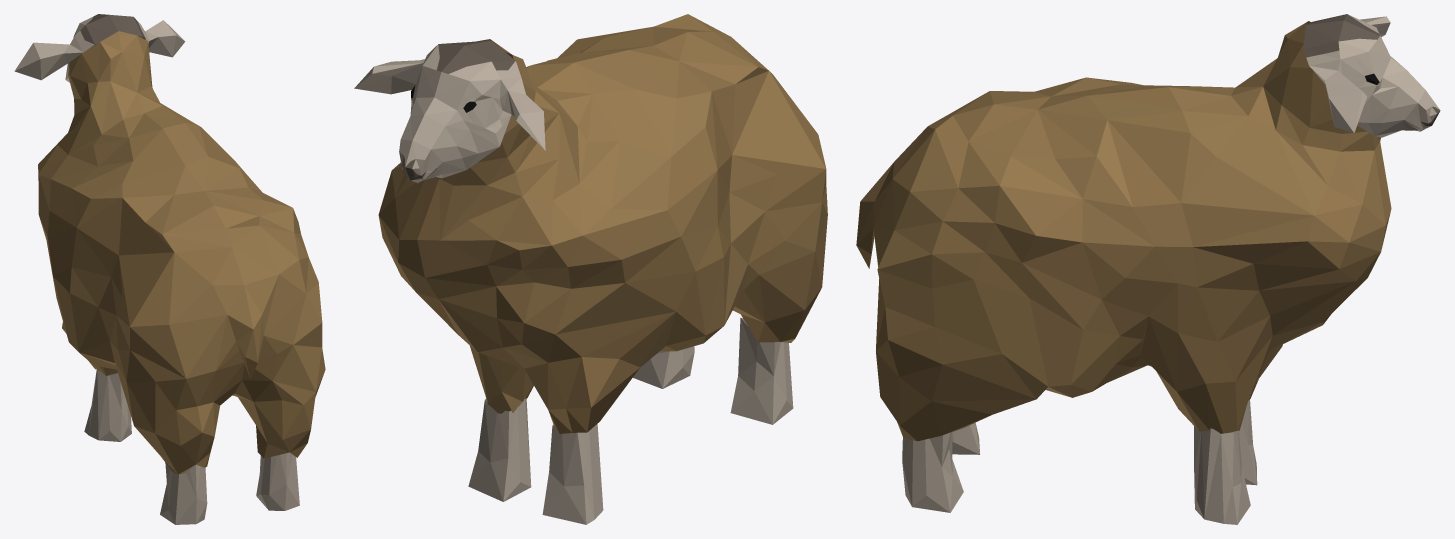
Rendered from sheep.obj.
The picture shows the model from 3 angles, left to right: view 1: azimuth 30°, elevation 25°; view 2: azimuth 150°, elevation 25°; view 3: azimuth 270°, elevation 25°; orthographic projection. The views are drawn at different scales.
Visible parts, largest first — view 1: sheep_sheep_wool, sheep.002_sheep.002_skin, sheep.003_sheep.003_skin, sheep.004_sheep.004_skin, sheep.005_sheep.005_skin, sheep.002_sheep.002_mark; view 2: sheep_sheep_wool, sheep.002_sheep.002_skin, sheep.003_sheep.003_skin, sheep.004_sheep.004_skin, sheep.002_sheep.002_mark, sheep.005_sheep.005_skin; view 3: sheep_sheep_wool, sheep.002_sheep.002_skin, sheep.003_sheep.003_skin, sheep.005_sheep.005_skin, sheep.002_sheep.002_mark, sheep.004_sheep.004_skin.
Part boxes in pixels (x1,y1,x2,y2): sheep_sheep_wool: (38,31,325,474); sheep.002_sheep.002_skin: (14,16,185,82); sheep.003_sheep.003_skin: (84,370,131,441); sheep.004_sheep.004_skin: (160,463,207,524); sheep.005_sheep.005_skin: (256,452,299,510); sheep.002_sheep.002_mark: (80,14,145,44); sheep_sheep_wool: (378,14,827,433); sheep.002_sheep.002_skin: (354,44,545,183); sheep.003_sheep.003_skin: (468,398,603,524); sheep.004_sheep.004_skin: (730,317,793,424); sheep.002_sheep.002_mark: (437,40,515,73); sheep.005_sheep.005_skin: (633,346,694,388); sheep_sheep_wool: (856,21,1391,441); sheep.002_sheep.002_skin: (1306,14,1439,137); sheep.003_sheep.003_skin: (1194,399,1257,524); sheep.005_sheep.005_skin: (902,432,963,512); sheep.002_sheep.002_mark: (1303,14,1379,57); sheep.004_sheep.004_skin: (952,422,980,454).
Bounding box in the file's own units: 0.5458 × 0.9501 × 1.04.
